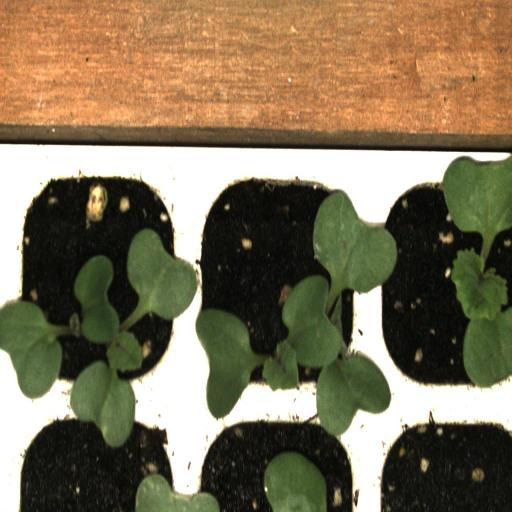Folha: (263, 452, 327, 512), (135, 473, 220, 512)
Germinacao: (5, 168, 190, 406), (190, 167, 372, 407), (371, 167, 512, 407)
